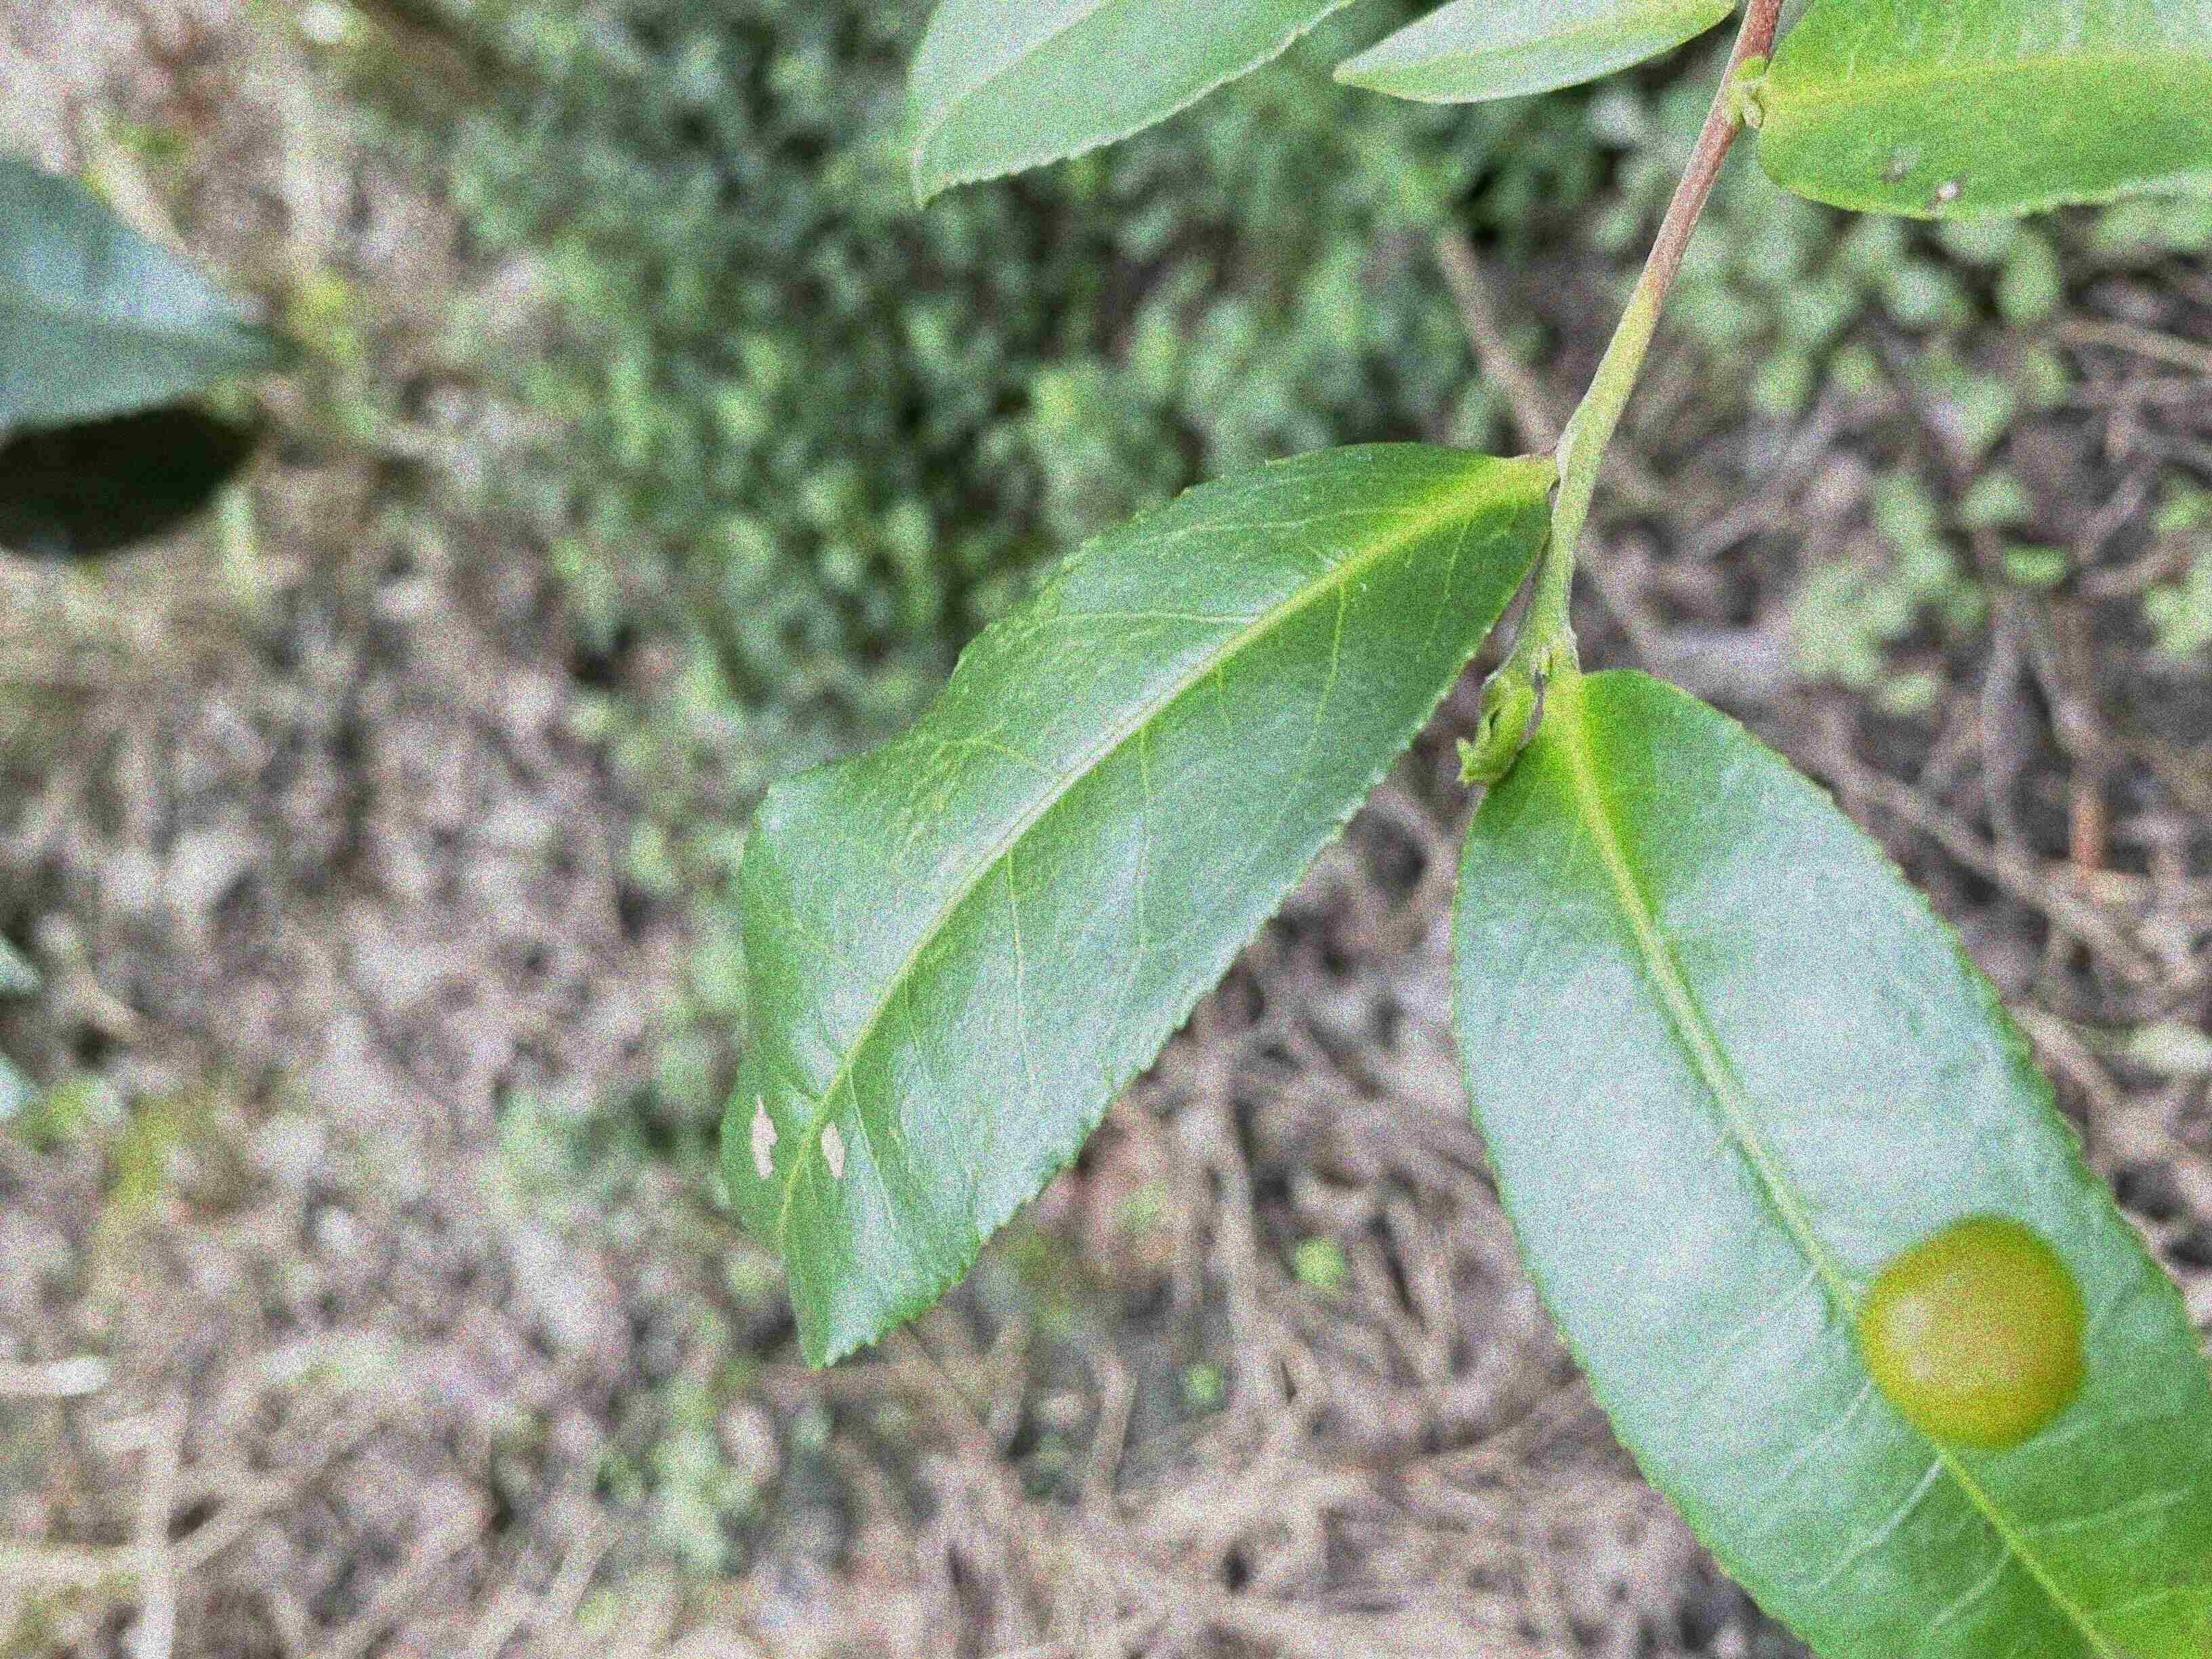chabing_low: (1446, 662, 2207, 1656)
tanju_low: (711, 439, 1554, 1371), (1754, 3, 2209, 225)
